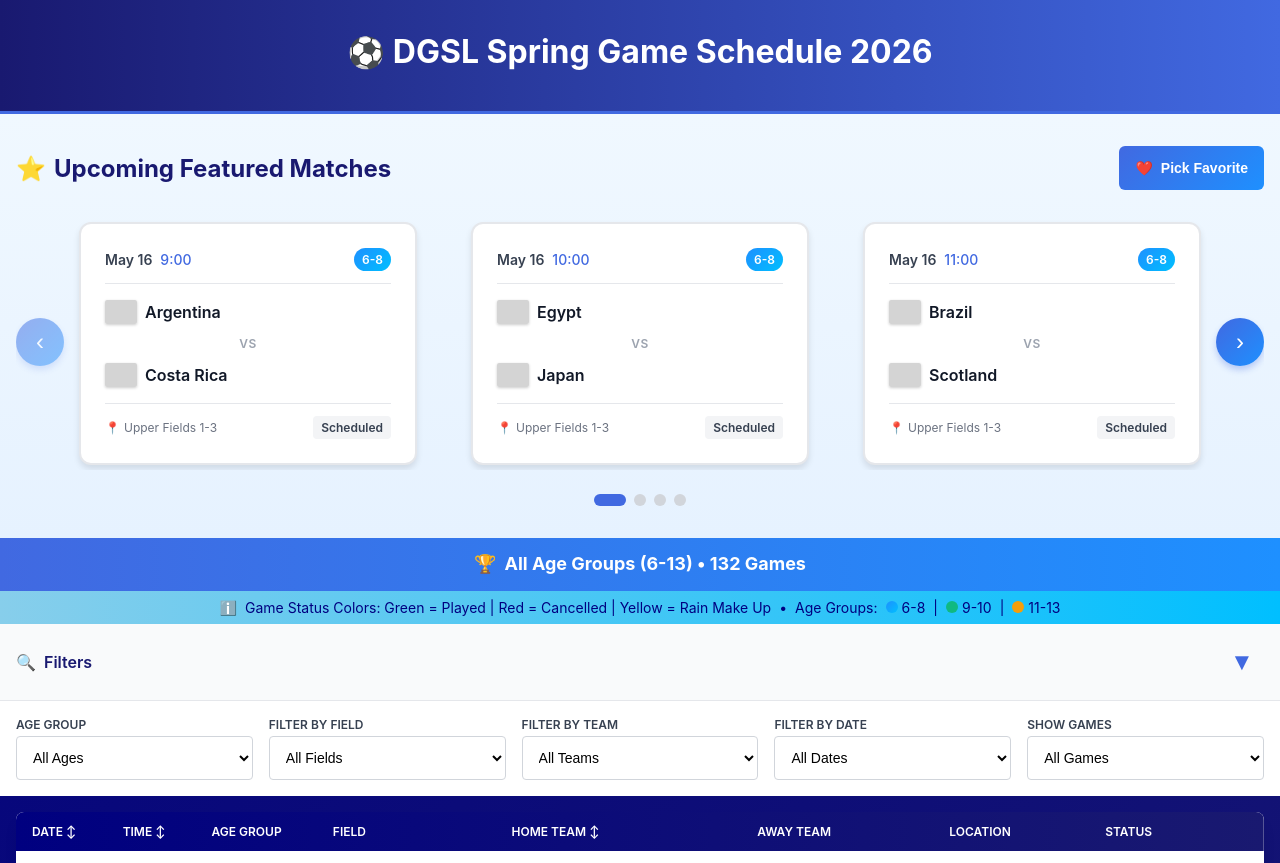
Test case: App › should open team selection dialog
The image size is (1280, 863).
Click the button with aria-label "Choose favorite team".
click(1192, 168)  # box [1119,146,1264,190]
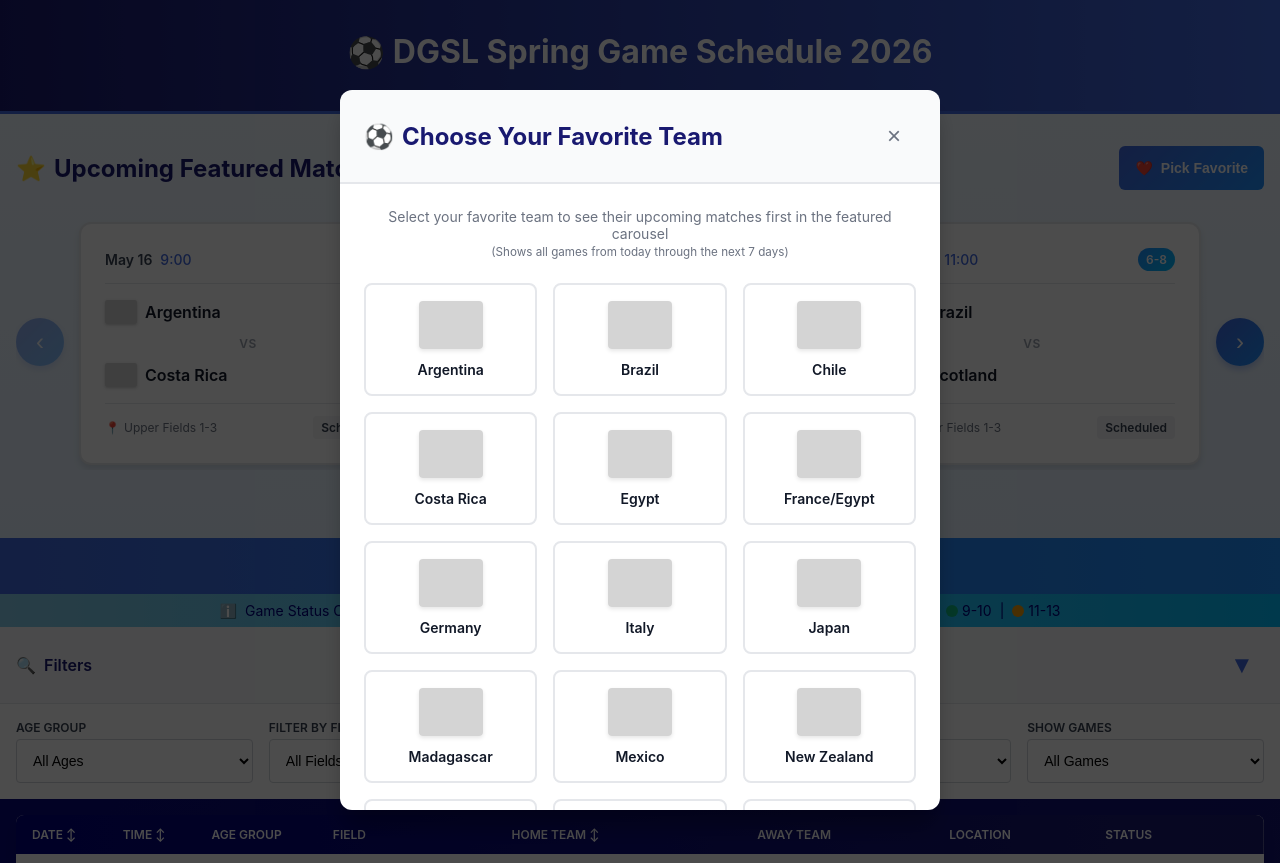
expect the heading "⚽ Choose Your Favorite Team" is shown: met, box [364,122,723,150]
